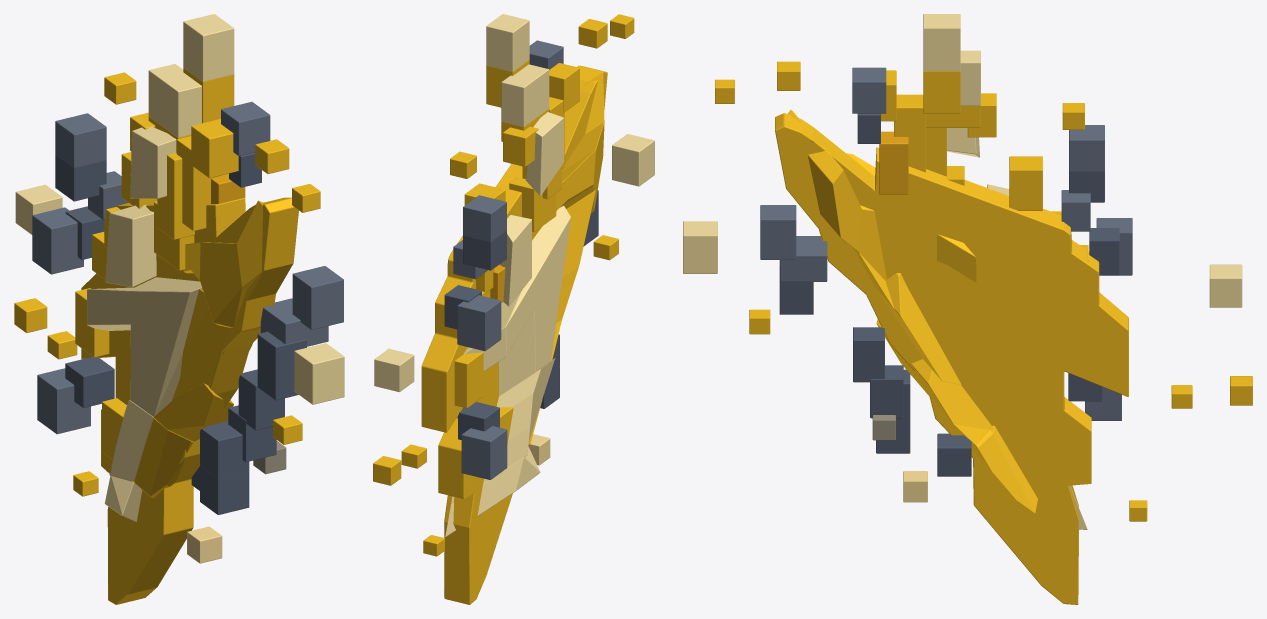
Rendered from SM_Blender_Storm.glb.
3 views of the same model, side by side, from view 1: azimuth 30°, elevation 25°; view 2: azimuth 150°, elevation 25°; view 3: azimuth 270°, elevation 25° (orthographic). The views are drawn at different scales.
Visible parts, largest first — view 1: SM_Blender_Storm; view 2: SM_Blender_Storm; view 3: SM_Blender_Storm.
Boxes of the visible parts, x1,y1,x2,y2 form: SM_Blender_Storm: (14,14,344,604); SM_Blender_Storm: (373,14,654,604); SM_Blender_Storm: (683,14,1252,604).
Bounding box in the file's own units: 0.289 × 1.47 × 1.3.
2 materials, 2 textured.
